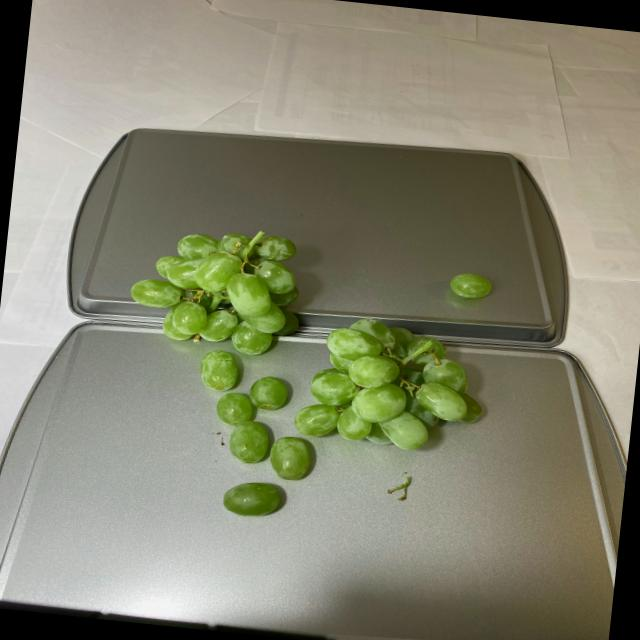grapes: (110, 218, 500, 544)
